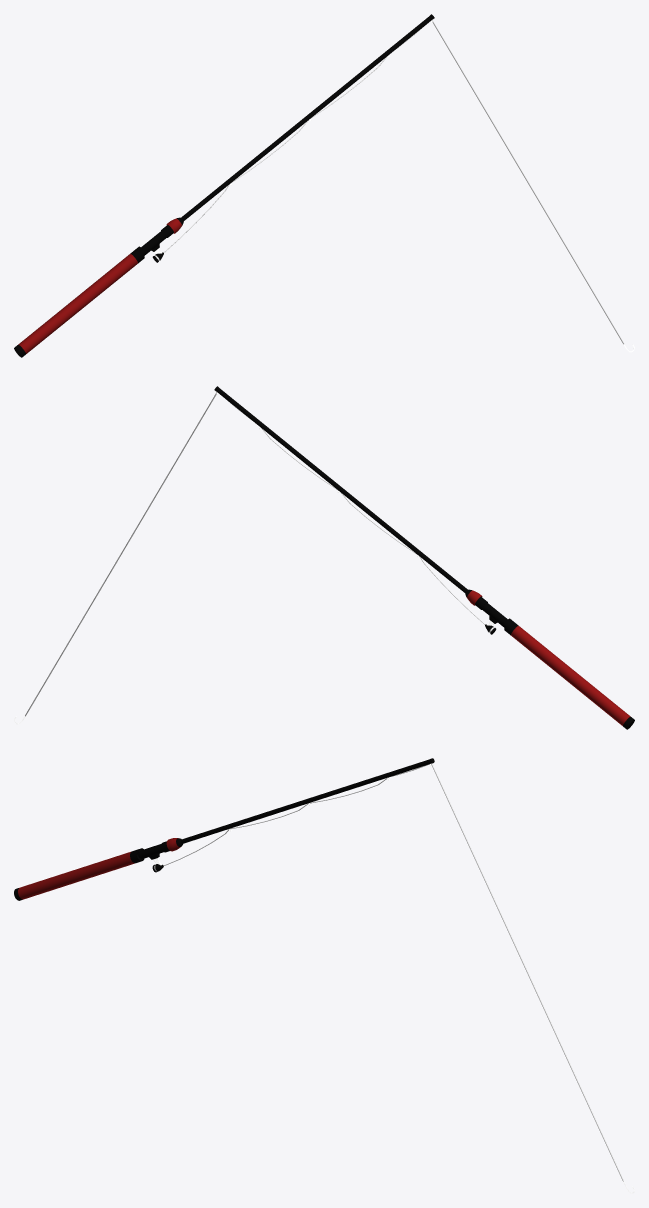
Rendered from fishing_rod.glb.
3 renders of one model, top to bottom at view 1: azimuth 30°, elevation 25°; view 2: azimuth 150°, elevation 25°; view 3: azimuth 330°, elevation 25°, orthographic.
Visible parts, largest first — view 1: Cylinder002, Cylinder006, Cylinder010; view 2: Cylinder002, Cylinder006, Cylinder010; view 3: Cylinder002, Cylinder006, Cylinder010.
Boxes of the visible parts, x1,y1,x2,y2 form: Cylinder002: [18, 253, 137, 353]; Cylinder006: [177, 14, 434, 225]; Cylinder010: [432, 20, 624, 344]; Cylinder002: [511, 625, 630, 725]; Cylinder006: [214, 386, 471, 596]; Cylinder010: [25, 392, 217, 716]; Cylinder002: [18, 852, 134, 899]; Cylinder006: [176, 758, 434, 846]; Cylinder010: [431, 763, 623, 1181].
Bounding box in the file's own units: 343 × 204 × 5.98.
4 materials, 1 textured.
